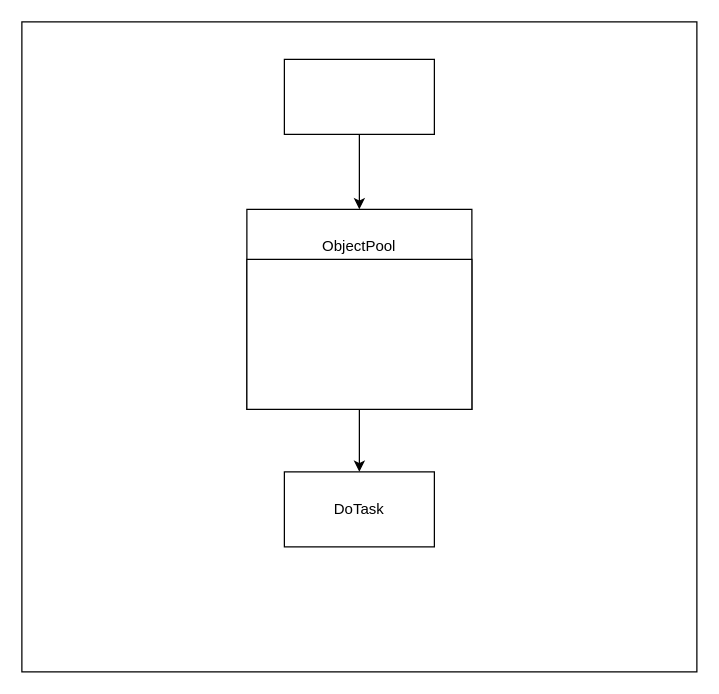
This 719x694 diagram has some shape labels left out. Each missing label, with the centre of its shape:
"Client" goes at (358,96).
"Get object Released Object List of Object" goes at (359,333).
